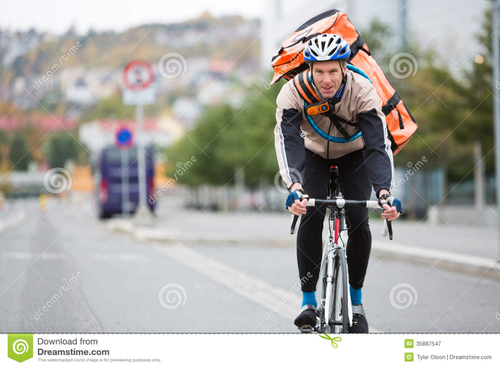bikerider: (262, 9, 405, 328)
